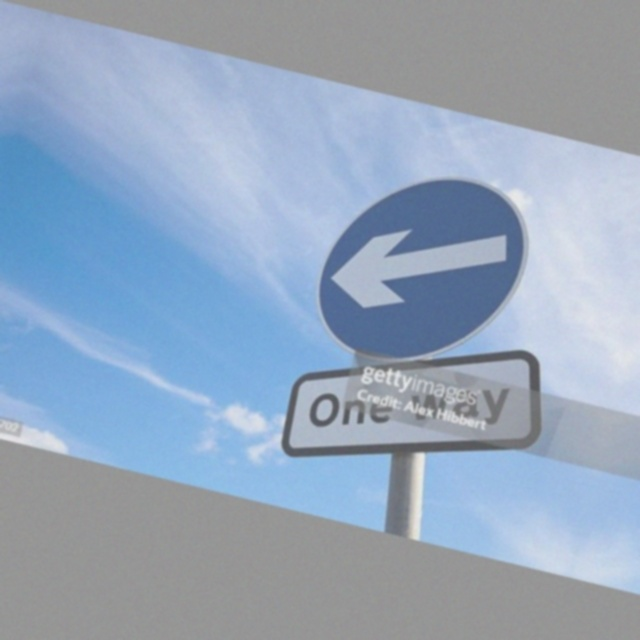Compulsory_Turn_Left: (295, 144, 541, 383)
